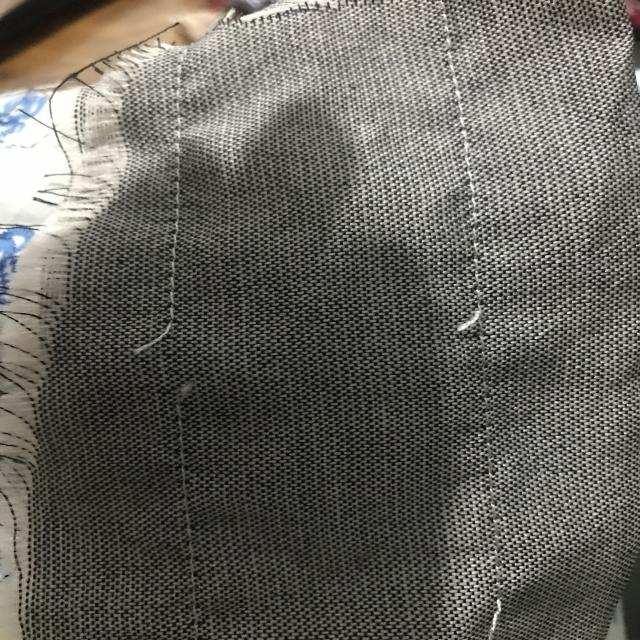broken: (127, 287, 230, 426)
good: (154, 188, 197, 268)
